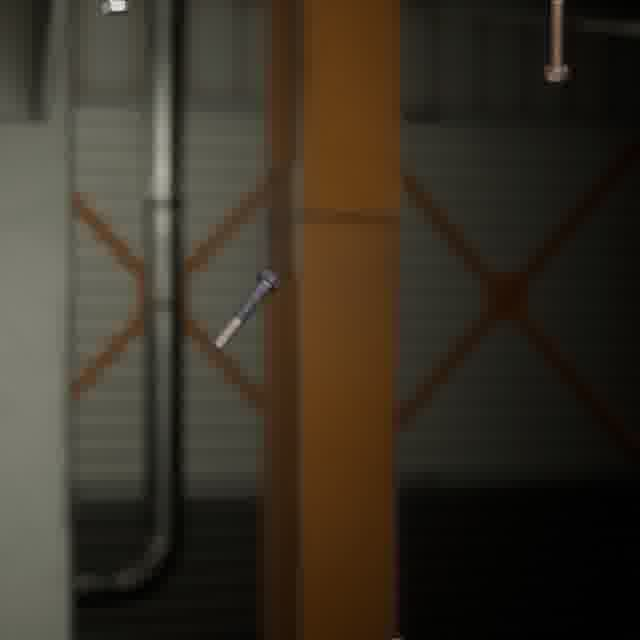bolt: (206, 264, 286, 356), (539, 0, 573, 86)
